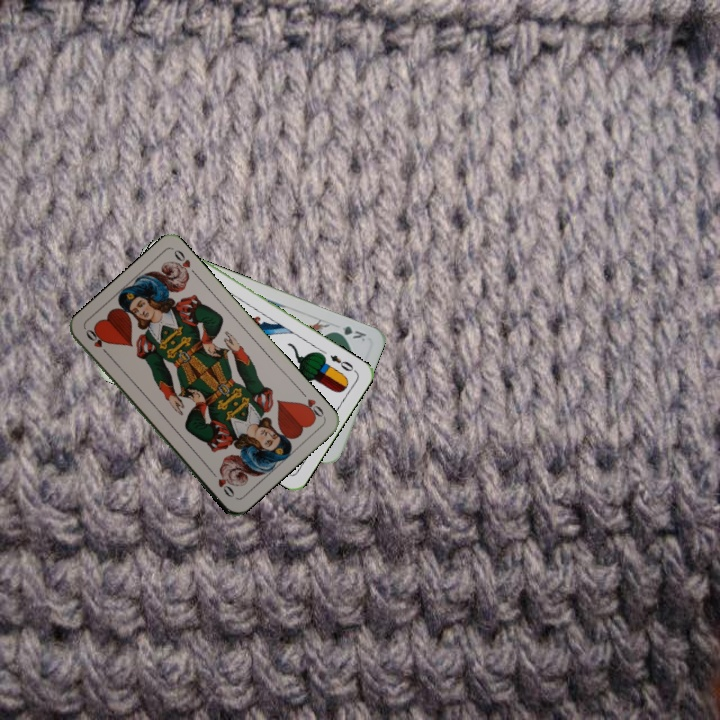EO: (326, 351, 356, 374)
GK: (329, 322, 369, 344)
HO: (296, 386, 327, 422), (81, 325, 113, 359)
